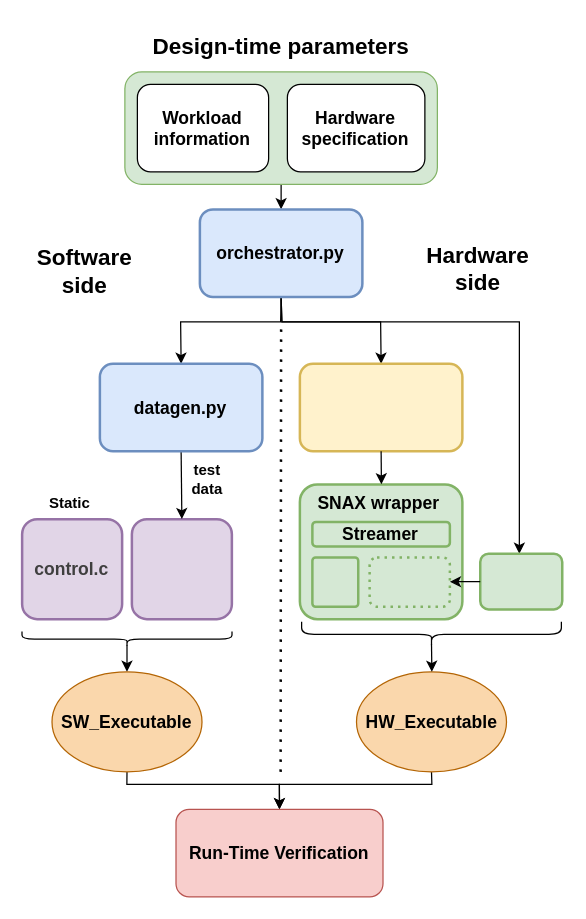
Image size: 586x919. Some labels were removed from this diagram. Here are the shapes that lost their labels. From the top down, the centre of each, then its label:
At (380,407): "config.hjson".
At (181,568): "data.h".
At (334,581): "CSR Mgr.".
At (520,581): "Tensor Core".
